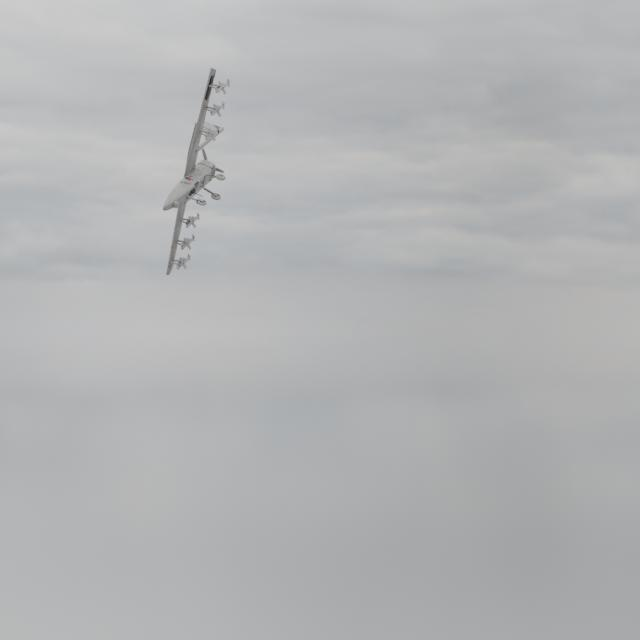Airaplan: (163, 68, 232, 276)
